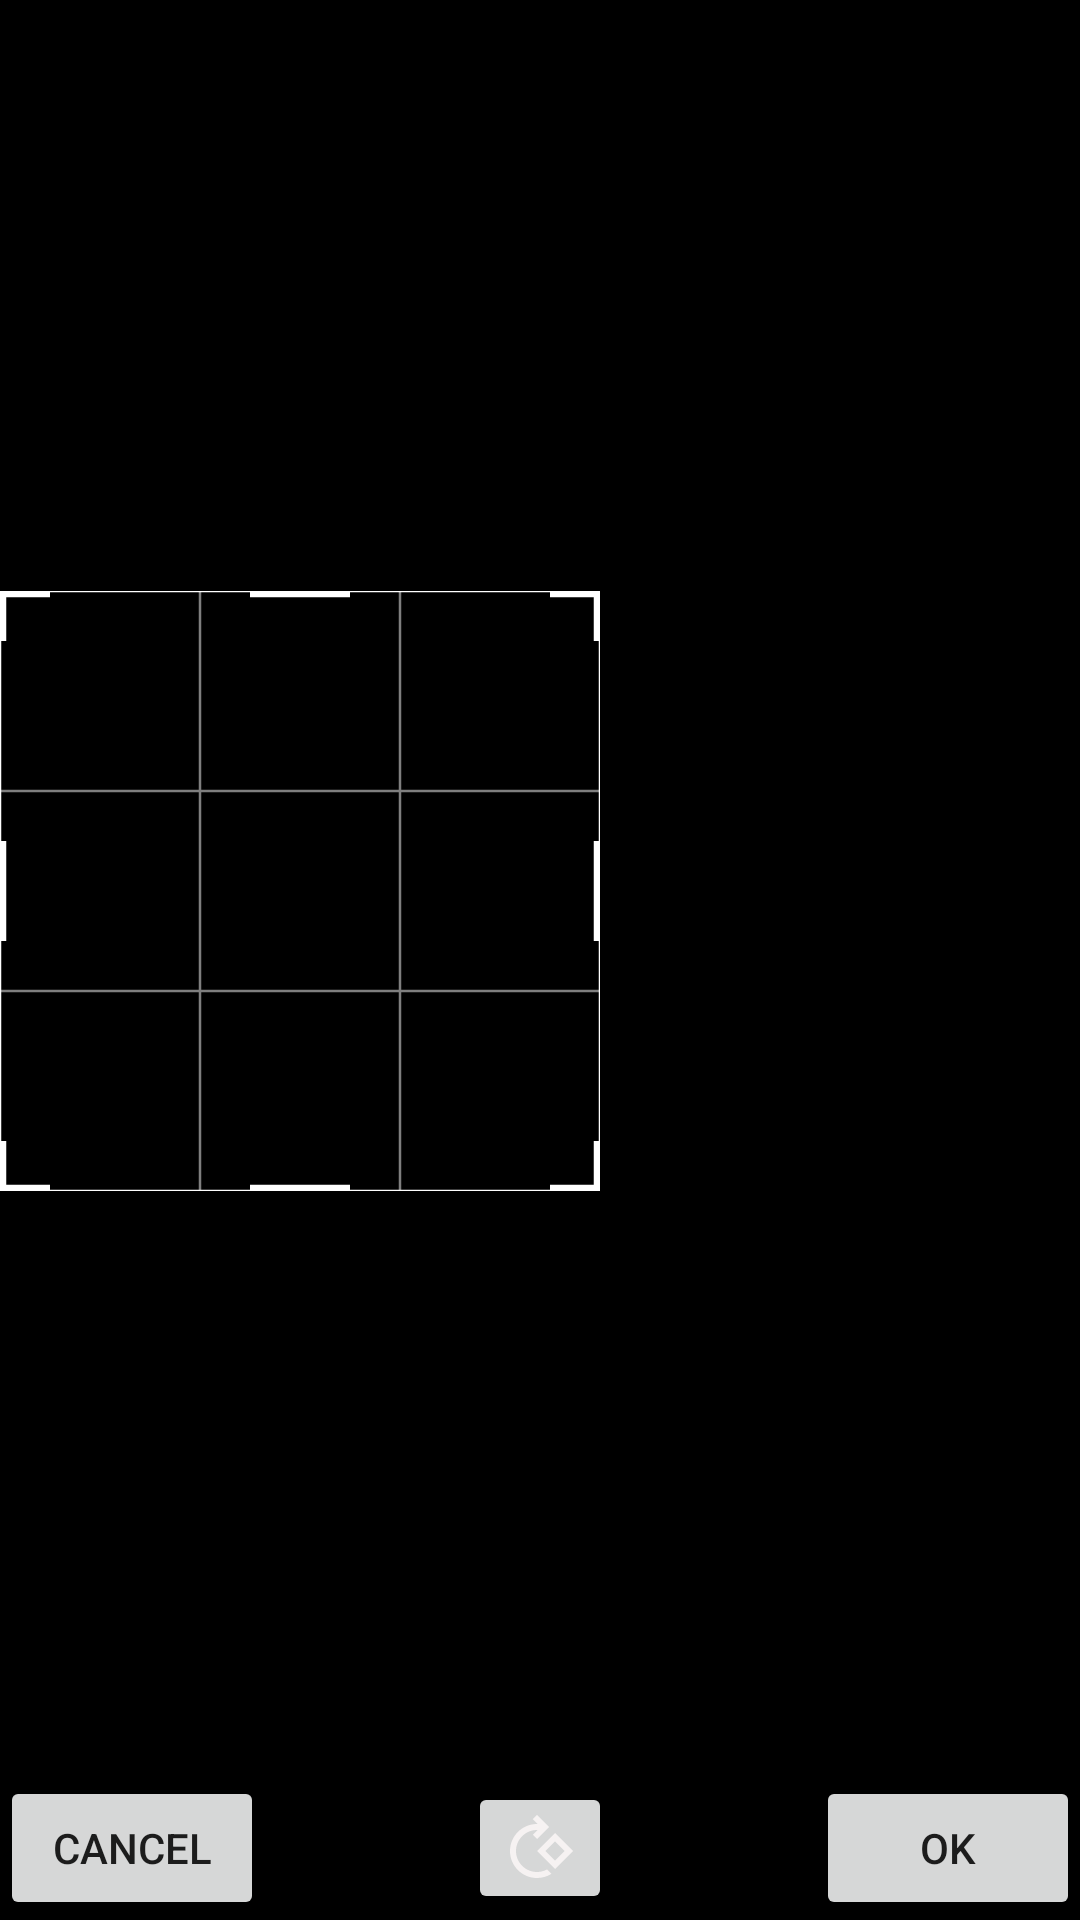

Locate icon controls on the screen. Image size 1080 × 1920, boxes as (left=x1, top=y1, right=x2, bottom=y2).
rotate degrees cw: (left=480, top=1800, right=600, bottom=1896)
